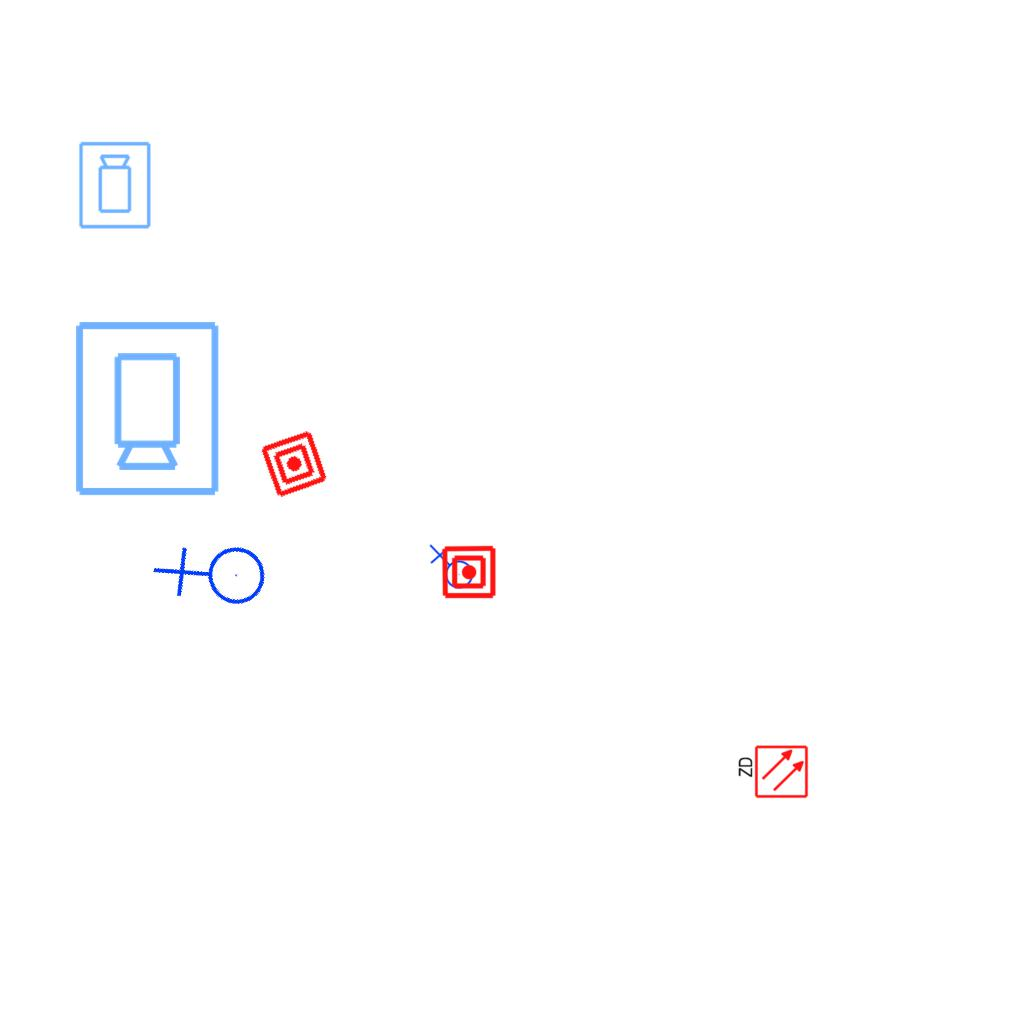Elektroanschluss_allgemein_230V_Geraeteanschlussdose_230V: (147, 509, 284, 647), (427, 544, 474, 593)
KFO_Kamera_mit_Festobjektiv: (69, 317, 223, 499), (77, 140, 154, 231)
NAM-Nichtautomatischer_Melder: (258, 428, 330, 500), (441, 544, 497, 600)
ZD_Melder_in_Zwischendecke_mit_Revisionsoeffnung_mind_40_x_40_cm: (735, 744, 809, 801)
